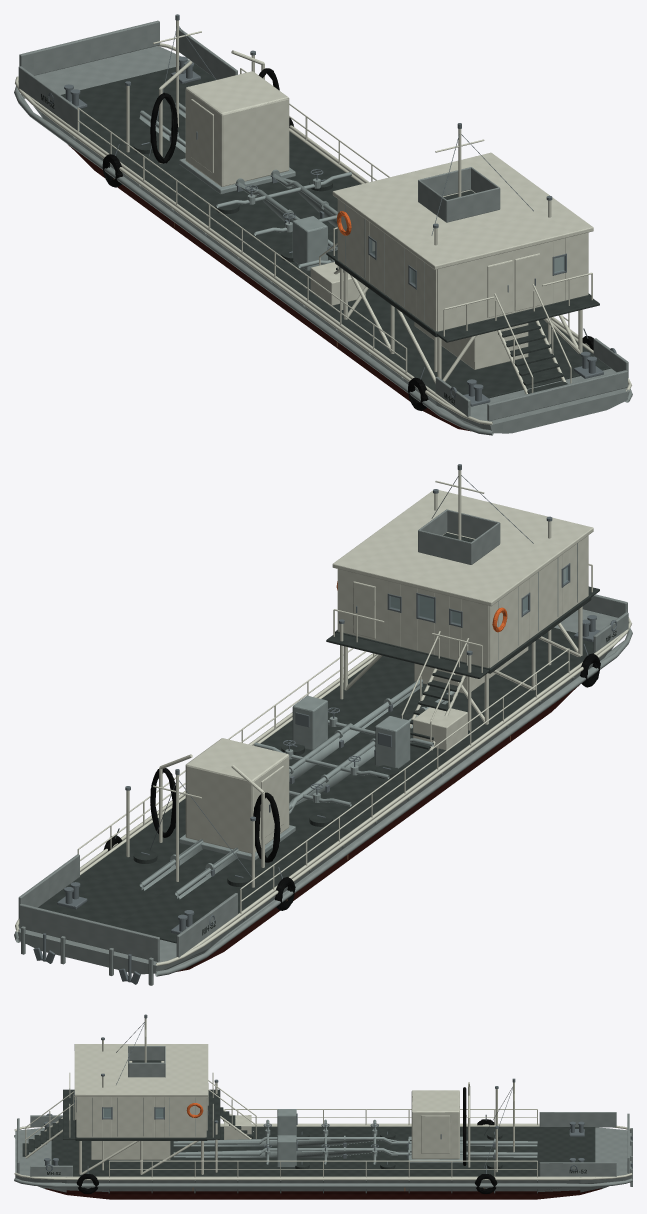
3 views of the same model, one above another, from view 1: azimuth 30°, elevation 25°; view 2: azimuth 150°, elevation 25°; view 3: azimuth 270°, elevation 25° (orthographic). The views are drawn at different scales.
Parts seen in each view (by area): view 1: MN52_LOD0_Opaque, MN52_LOD1_Opaque, MN52_LOD2_Opaque; view 2: MN52_LOD0_Opaque, MN52_LOD1_Opaque, MN52_LOD2_Opaque, MN52_LOD0_Glass, MN52_LOD2_Glass; view 3: MN52_LOD0_Opaque, MN52_LOD1_Opaque, MN52_LOD2_Opaque.
Part boxes in pixels (box(x1,y1,x2,y2)): MN52_LOD0_Opaque: box(14, 14, 632, 435); MN52_LOD1_Opaque: box(17, 22, 629, 433); MN52_LOD2_Opaque: box(48, 69, 615, 409); MN52_LOD0_Opaque: box(14, 464, 632, 985); MN52_LOD1_Opaque: box(17, 491, 628, 985); MN52_LOD2_Opaque: box(71, 585, 616, 975); MN52_LOD0_Glass: box(390, 567, 567, 624); MN52_LOD2_Glass: box(390, 567, 567, 624); MN52_LOD0_Opaque: box(14, 1014, 632, 1199); MN52_LOD1_Opaque: box(15, 1044, 632, 1199); MN52_LOD2_Opaque: box(45, 1046, 576, 1193).
Bounding box in the file's own units: 628 × 2892 × 860.
11 materials, 6 textured.
